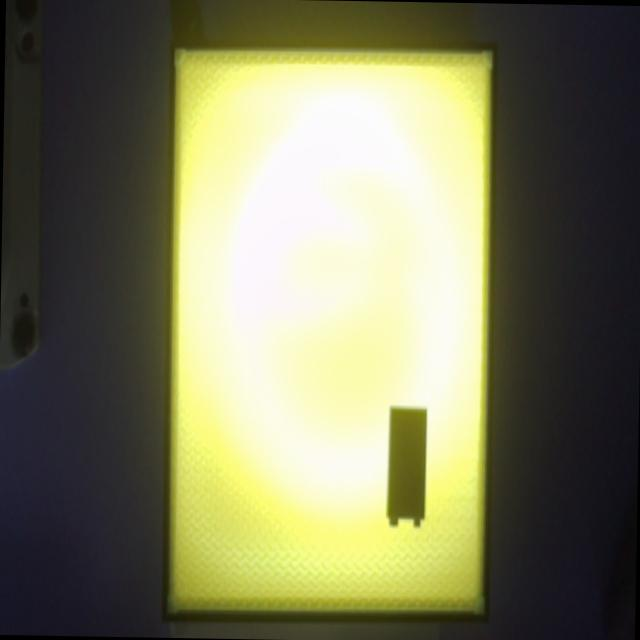bateria: (385, 406, 426, 527)
mesa: (161, 38, 498, 625)
